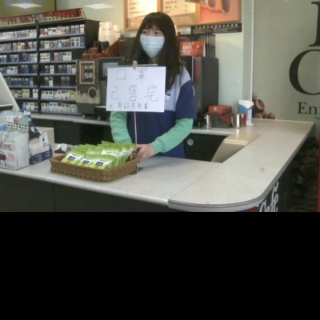with_mask: (138, 26, 164, 56)
